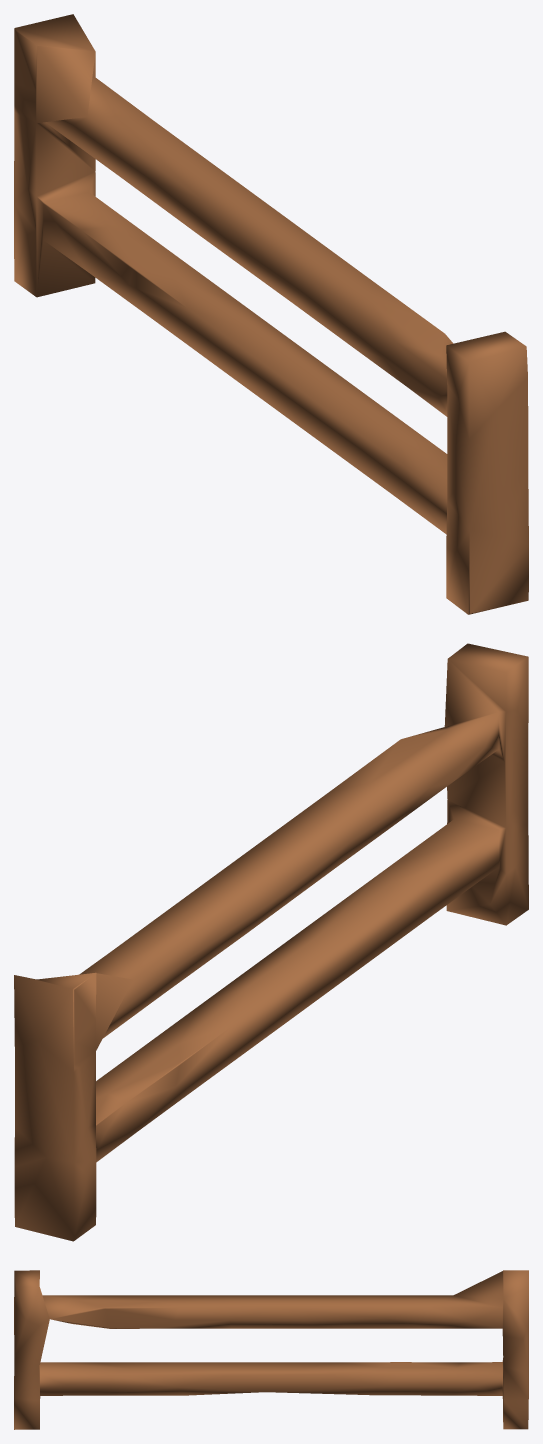
The model's file is ktx.glb.
3 renders of one model, top to bottom at view 1: azimuth 30°, elevation 25°; view 2: azimuth 150°, elevation 25°; view 3: azimuth 270°, elevation 25°, orthographic. The views are drawn at different scales.
Parts seen in each view (by area): view 1: tripo_node_b84a3c88-d25b-4296-b136-5604bc9c5561; view 2: tripo_node_b84a3c88-d25b-4296-b136-5604bc9c5561; view 3: tripo_node_b84a3c88-d25b-4296-b136-5604bc9c5561.
Part boxes in pixels (<box>): tripo_node_b84a3c88-d25b-4296-b136-5604bc9c5561: <box>14,14,528,614</box>; tripo_node_b84a3c88-d25b-4296-b136-5604bc9c5561: <box>14,643,528,1241</box>; tripo_node_b84a3c88-d25b-4296-b136-5604bc9c5561: <box>14,1270,528,1429</box>.
Size of the model in its own units: 0.0764 by 0.3068 by 1.
